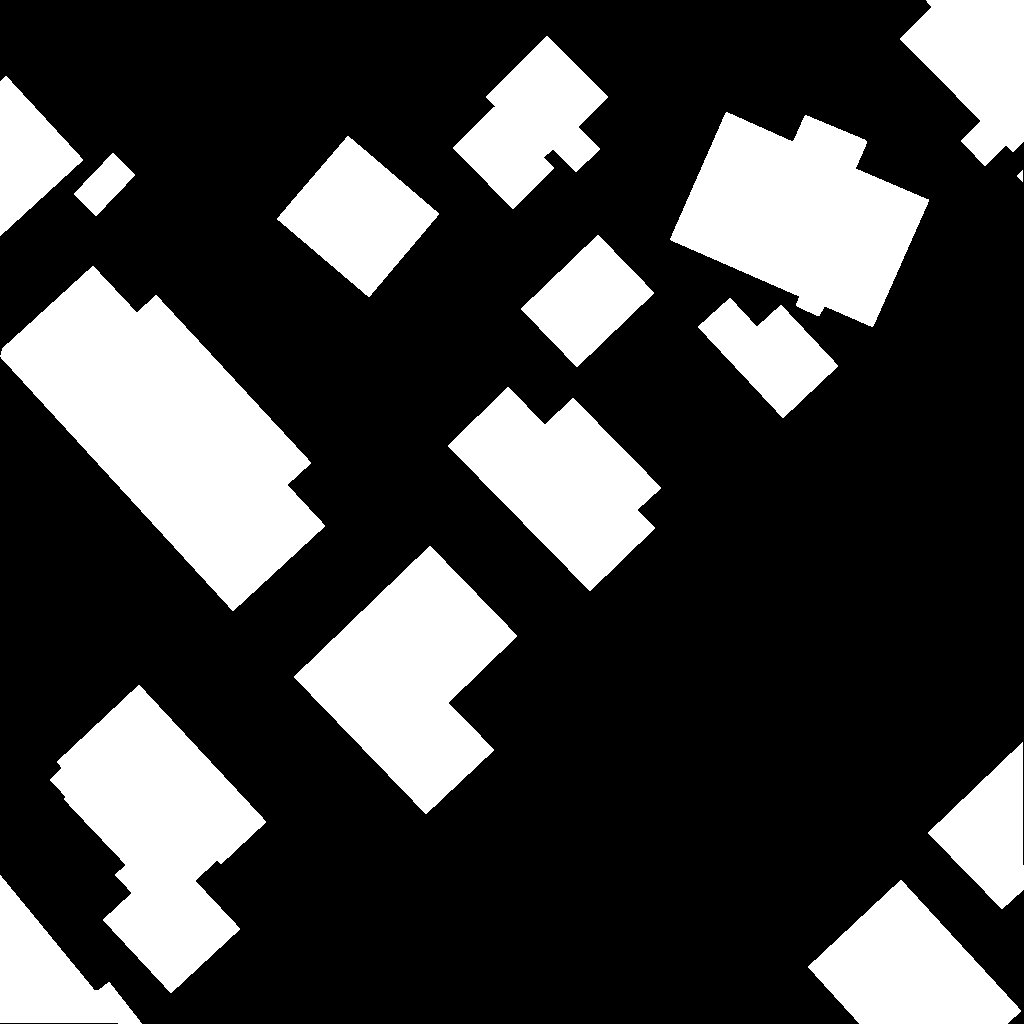building: (0, 266, 326, 612), (50, 685, 267, 994), (294, 546, 518, 815), (670, 112, 930, 328), (448, 387, 662, 592), (808, 880, 1022, 1024), (277, 136, 440, 298), (0, 875, 143, 1024), (900, 0, 1024, 167), (521, 235, 655, 368), (698, 298, 839, 419), (486, 36, 609, 173), (928, 742, 1024, 910), (0, 76, 84, 237), (453, 107, 555, 210), (74, 153, 136, 217), (1017, 170, 1024, 183)
